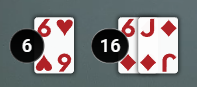6: (33, 17, 55, 38), (117, 17, 138, 39)
j: (137, 17, 158, 39)
